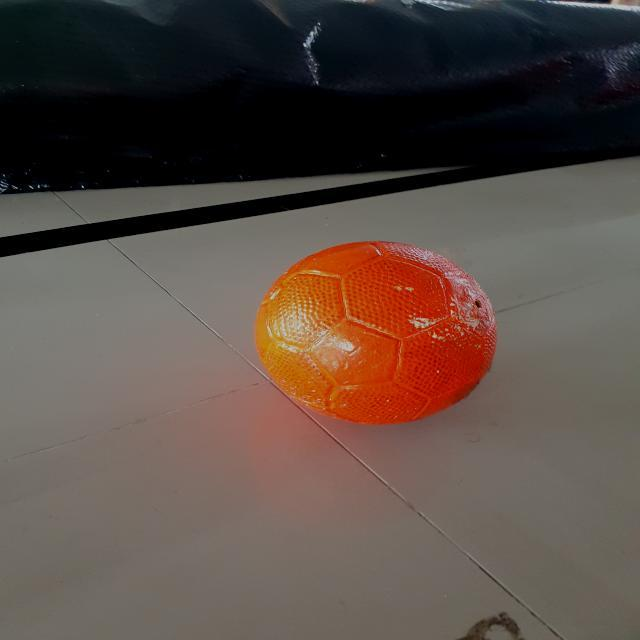bola: (253, 236, 501, 434)
